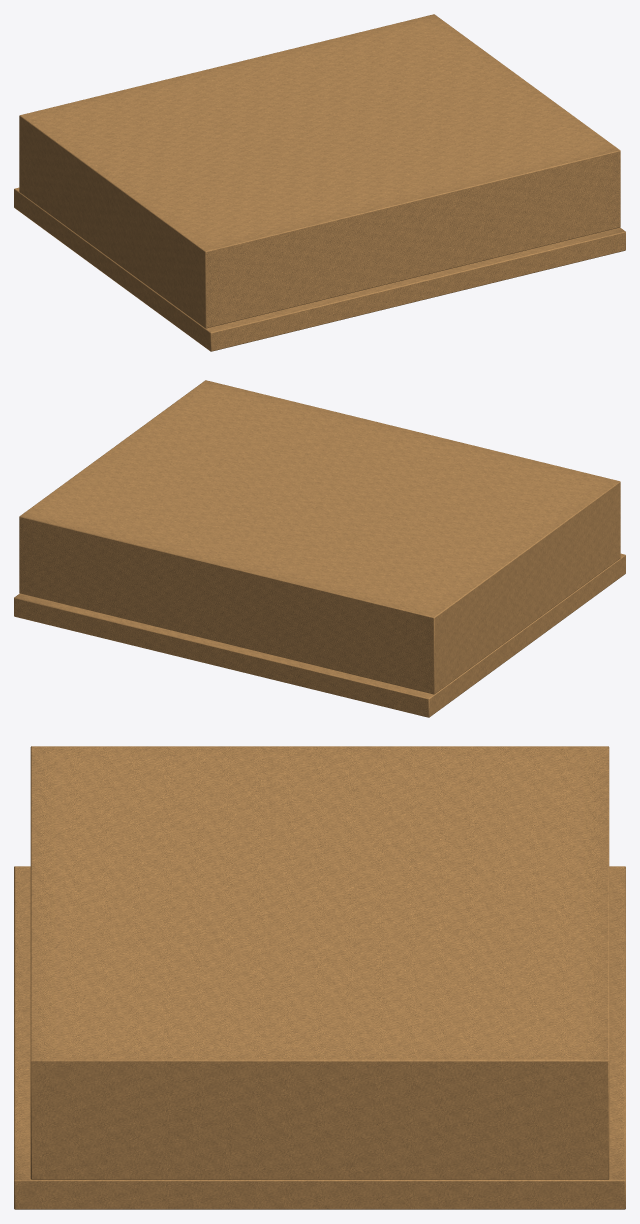
File: 9-top-box-bottom-right.fbx
3 views of the same model, one above another, from view 1: azimuth 30°, elevation 25°; view 2: azimuth 150°, elevation 25°; view 3: azimuth 270°, elevation 25° (orthographic). The views are drawn at different scales.
Visible parts, largest first — view 1: top-box-bottom-right; view 2: top-box-bottom-right; view 3: top-box-bottom-right.
Part boxes in pixels (bbox=[...]): top-box-bottom-right: bbox=[14, 14, 625, 351]; top-box-bottom-right: bbox=[14, 380, 625, 717]; top-box-bottom-right: bbox=[14, 746, 625, 1209].
Size of the model in its own units: 9000 by 2000 by 7400.
Materials: 1 (1 with a texture image).
